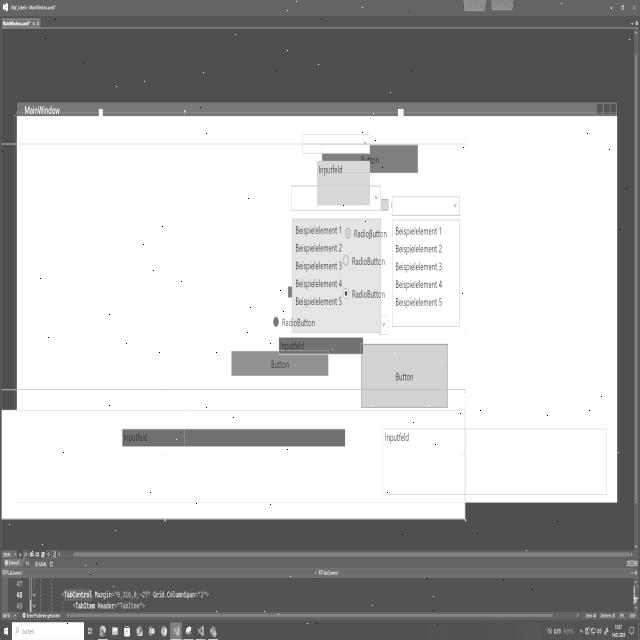button: (360, 341, 450, 412), (230, 348, 330, 378)
checkbox: (381, 198, 389, 212)
dropdownMenu: (391, 192, 462, 330), (300, 131, 372, 155), (372, 186, 380, 208), (381, 317, 388, 333)
input: (382, 422, 609, 500), (120, 424, 348, 450), (316, 158, 372, 208)
label: (282, 316, 316, 329), (353, 228, 388, 240), (352, 255, 386, 267), (352, 289, 386, 300)
menuItem: (294, 222, 343, 238), (394, 278, 443, 292), (394, 295, 442, 309), (395, 259, 443, 273), (394, 242, 443, 255), (295, 295, 342, 308), (295, 259, 342, 272), (394, 224, 444, 236), (294, 241, 343, 253), (295, 277, 343, 289)
radio: (272, 314, 280, 329), (345, 227, 351, 239), (343, 254, 349, 266), (343, 287, 349, 299)
